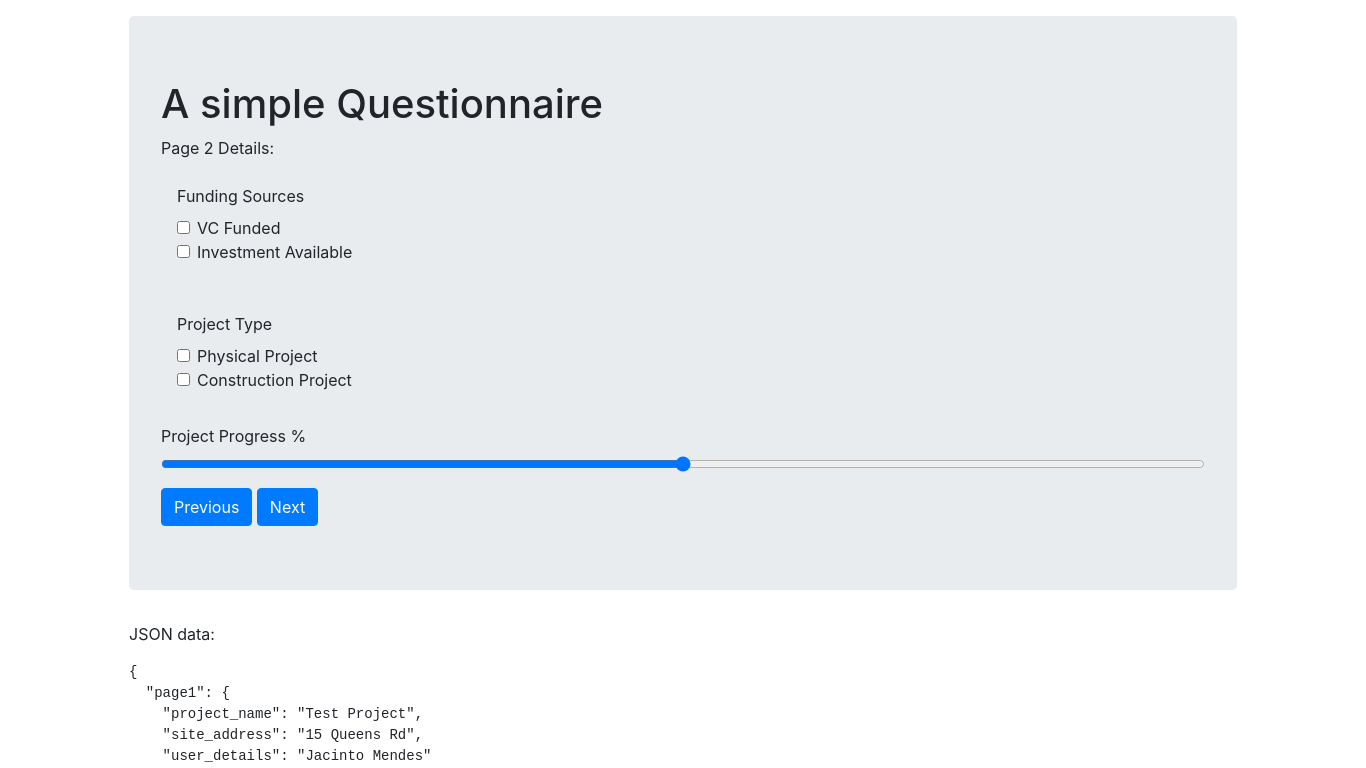
Test: Step2 - › Navigate back
Expected: the form is shown, [161,136,1205,526]
Click the button "Previous". click: (207, 507)
box: [161,488,252,526]
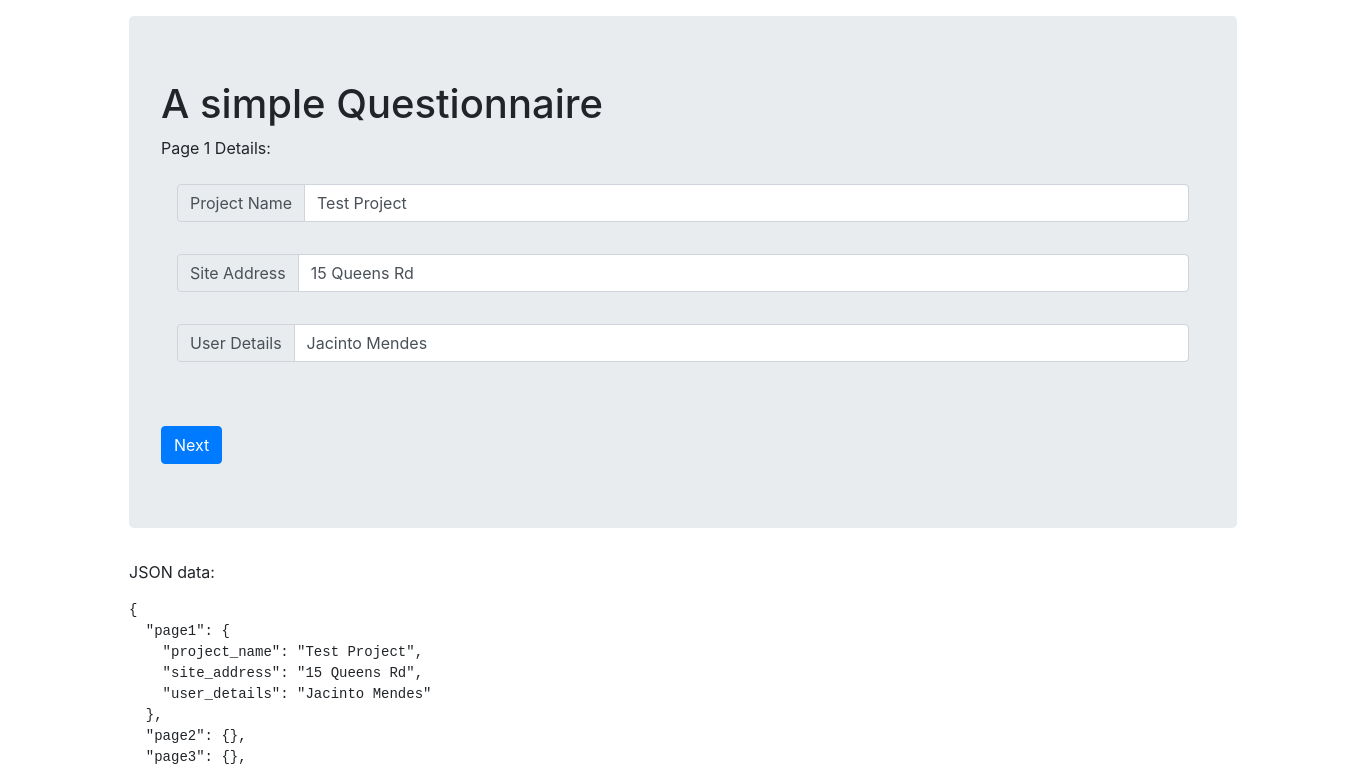
Now the text "Page 1" reads "Page 1 Details:", box [161,136,271,160]
